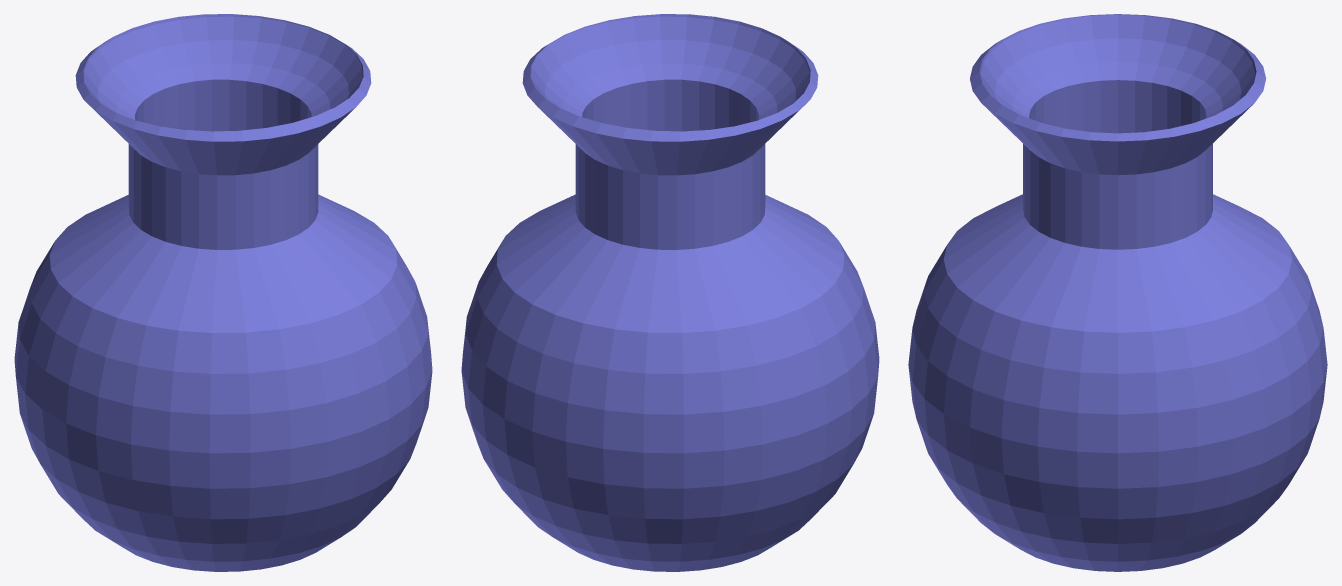
File: vase1.fbx
3 views of the same model, side by side, from view 1: azimuth 30°, elevation 25°; view 2: azimuth 150°, elevation 25°; view 3: azimuth 270°, elevation 25° (orthographic).
Parts seen in each view (by area): view 1: Sphere; view 2: Sphere; view 3: Sphere.
Boxes of the visible parts, box(x1,y1,x2,y2) form: Sphere: box(14, 14, 432, 571); Sphere: box(461, 14, 879, 571); Sphere: box(908, 14, 1327, 571).
Bounding box in the file's own units: 178 × 211 × 178.
